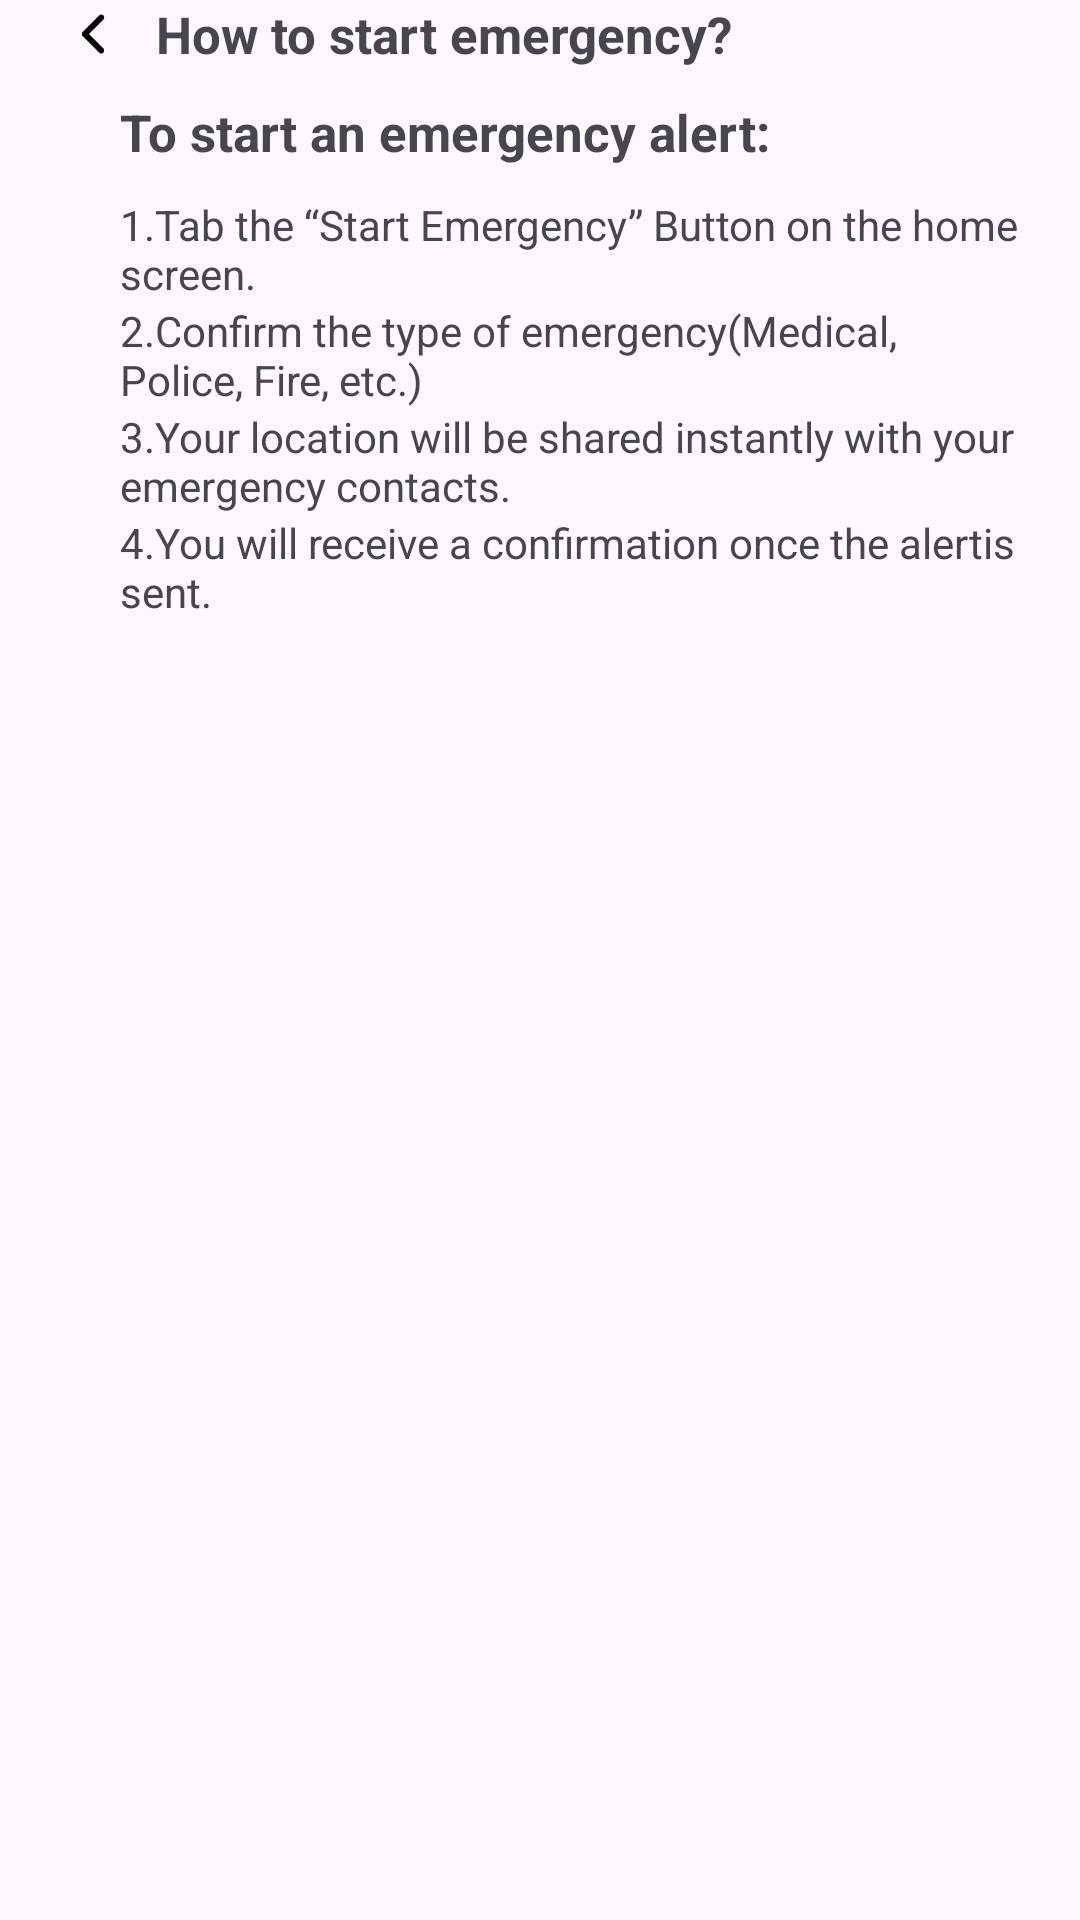

Named icons in this screenshot (1080 × 1920) and their bounding boxes, (x1, y1, x2, y2):
back: (82, 14, 105, 54)
